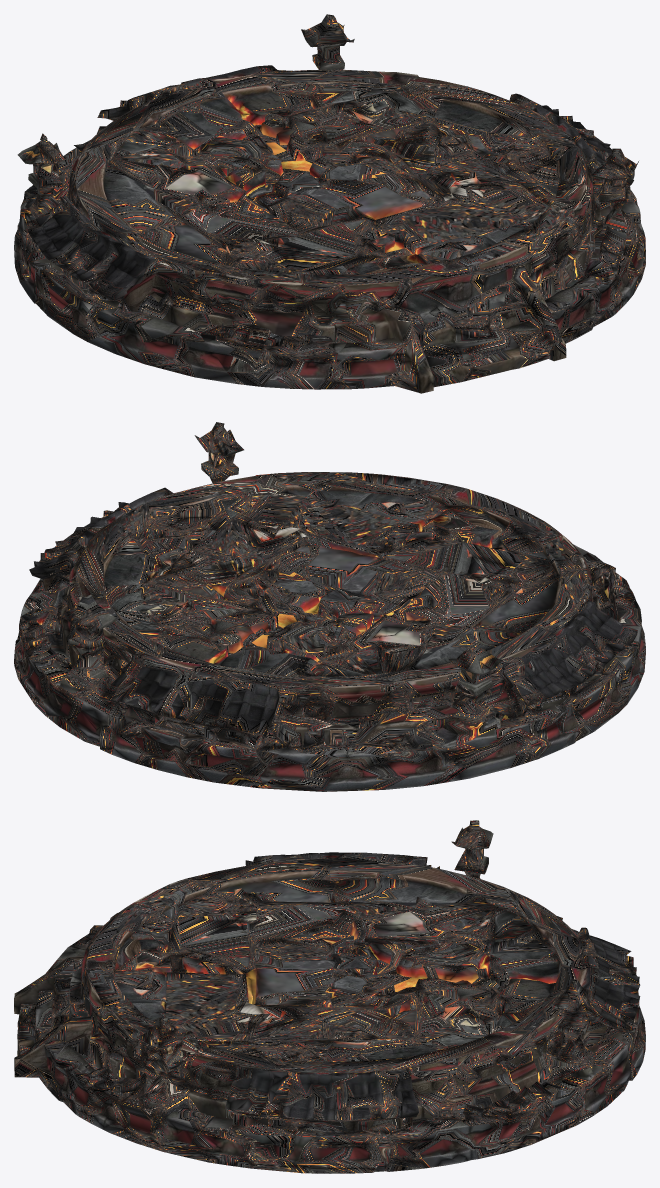
The model's file is courtyard.glb.
3 views of the same model, one above another, from view 1: azimuth 30°, elevation 25°; view 2: azimuth 150°, elevation 25°; view 3: azimuth 270°, elevation 25° (orthographic).
Visible parts, largest first — view 1: output_unwrapped; view 2: output_unwrapped; view 3: output_unwrapped.
Part boxes in pixels (box(x1,y1,x2,y2)): output_unwrapped: box(14, 14, 645, 393); output_unwrapped: box(14, 422, 645, 791); output_unwrapped: box(14, 820, 645, 1173).
Bounding box in the file's own units: 1.86 × 0.4003 × 1.9.
Materials: 1 (1 with a texture image).
